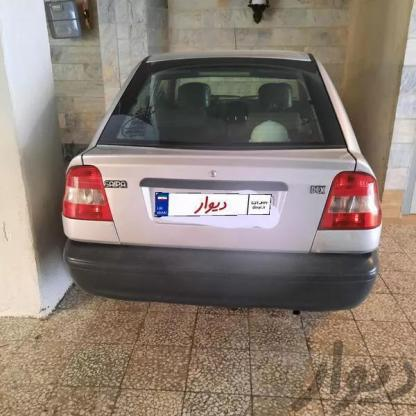Car: (60, 58, 378, 319)
